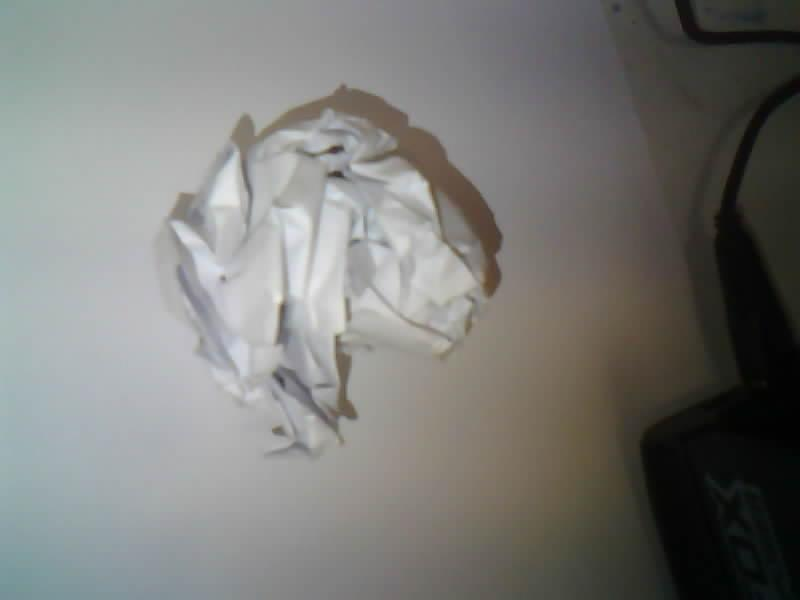biodegradable: (165, 109, 487, 452)
